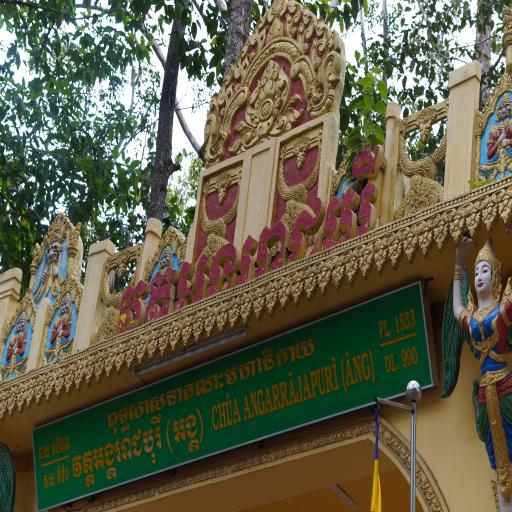hoa: (243, 60, 297, 133)
la: (430, 215, 452, 253), (445, 210, 468, 244), (417, 220, 437, 258), (479, 198, 500, 234), (275, 276, 294, 312), (301, 266, 320, 302), (401, 229, 419, 266), (262, 283, 281, 318), (344, 251, 362, 287), (387, 234, 404, 271), (314, 263, 333, 296), (464, 202, 480, 240), (329, 256, 346, 291), (497, 191, 512, 230), (358, 245, 375, 279), (290, 274, 306, 310), (373, 240, 389, 276), (225, 300, 243, 331), (178, 317, 194, 351), (190, 312, 206, 346), (202, 308, 219, 340), (214, 303, 230, 336), (251, 288, 267, 321), (156, 326, 171, 360), (238, 294, 255, 324), (92, 353, 106, 387), (168, 321, 182, 354), (63, 364, 77, 396), (102, 348, 116, 379), (134, 336, 148, 366), (145, 333, 159, 362), (124, 340, 137, 371), (34, 375, 46, 407), (114, 344, 126, 376), (44, 371, 56, 402), (74, 360, 86, 391), (84, 358, 96, 388), (55, 368, 66, 399), (17, 383, 27, 413), (26, 380, 36, 409), (8, 389, 18, 417), (0, 391, 8, 421)
lua: (204, 92, 216, 158), (234, 36, 251, 80), (219, 65, 235, 111), (300, 6, 315, 54), (269, 0, 286, 36), (312, 16, 324, 64), (287, 3, 300, 38), (252, 19, 267, 47), (504, 2, 512, 36)
ran: (399, 128, 446, 208), (279, 150, 318, 216), (210, 86, 245, 156), (202, 181, 238, 249), (295, 53, 324, 114)
than: (450, 243, 512, 512), (479, 92, 512, 176), (34, 231, 66, 298), (46, 290, 75, 360), (2, 310, 29, 377), (150, 245, 184, 273)
